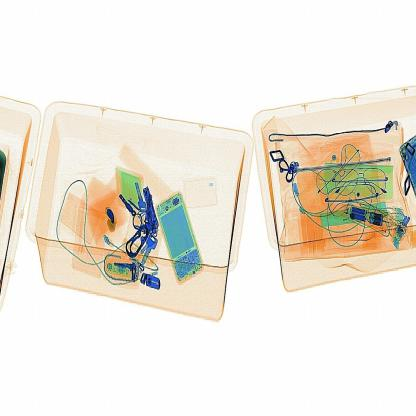wrench: (98, 200, 126, 236)
